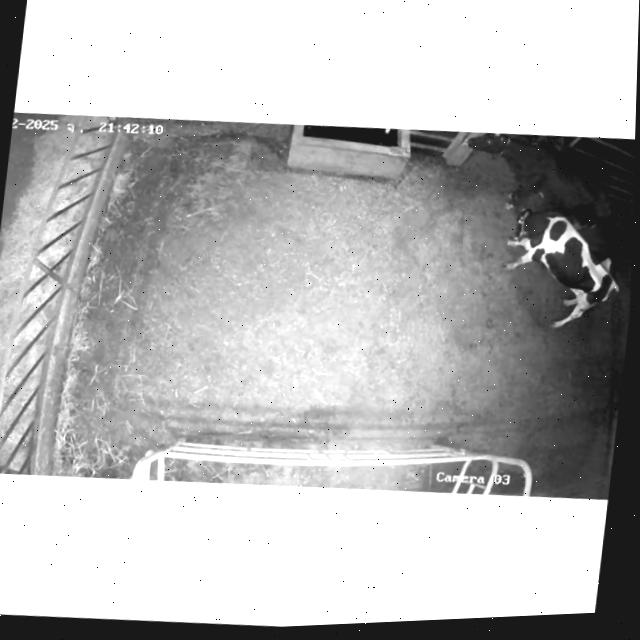stand: (449, 124, 629, 240), (489, 191, 626, 337)
